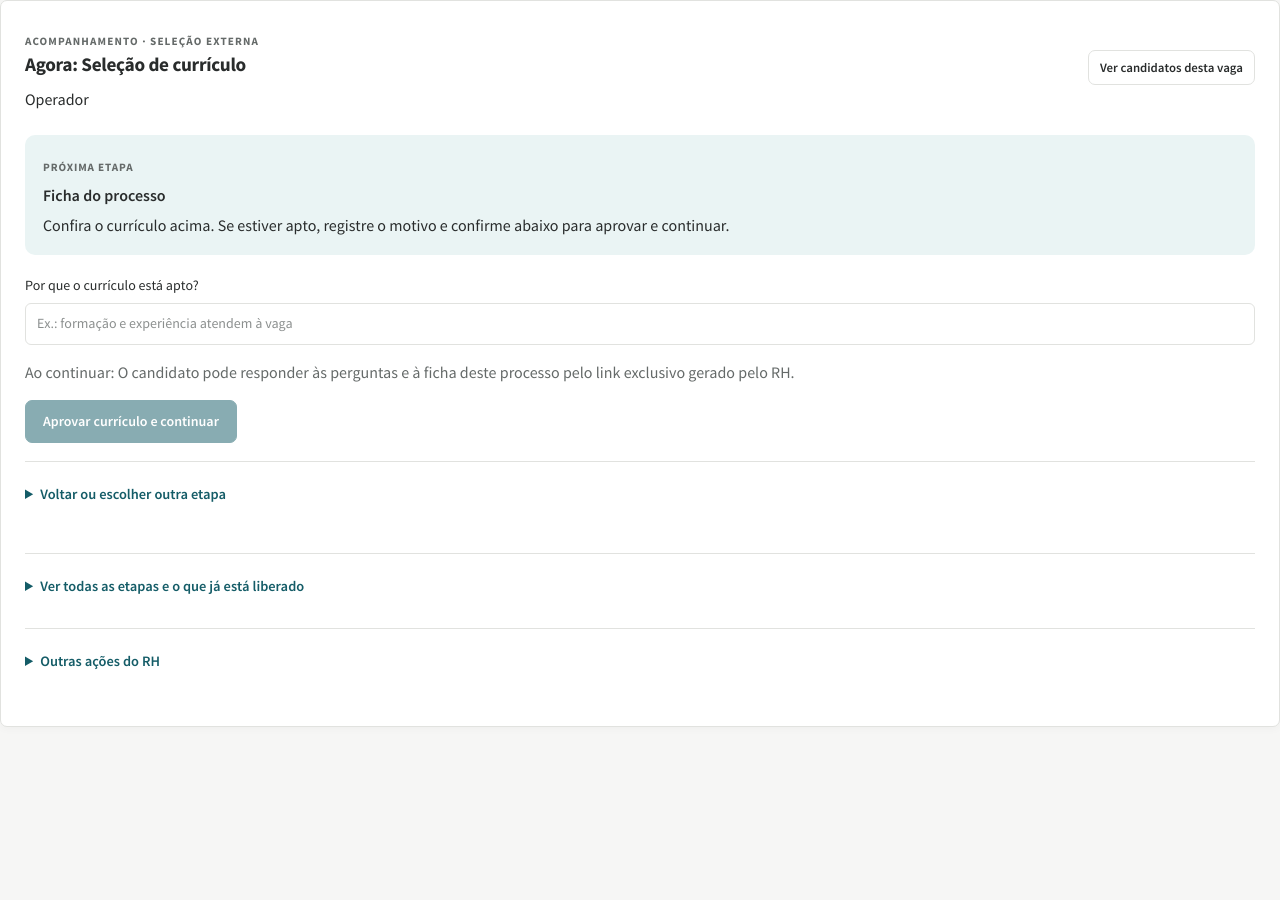
mantém a etapa quando há pendência e mostra a orientação retornada pelo servidor
Step 1. Type "Currículo conferido pelo RH" into the field labelled "Por que o currículo está apto?" → (640, 324), box [25,303,1255,345]
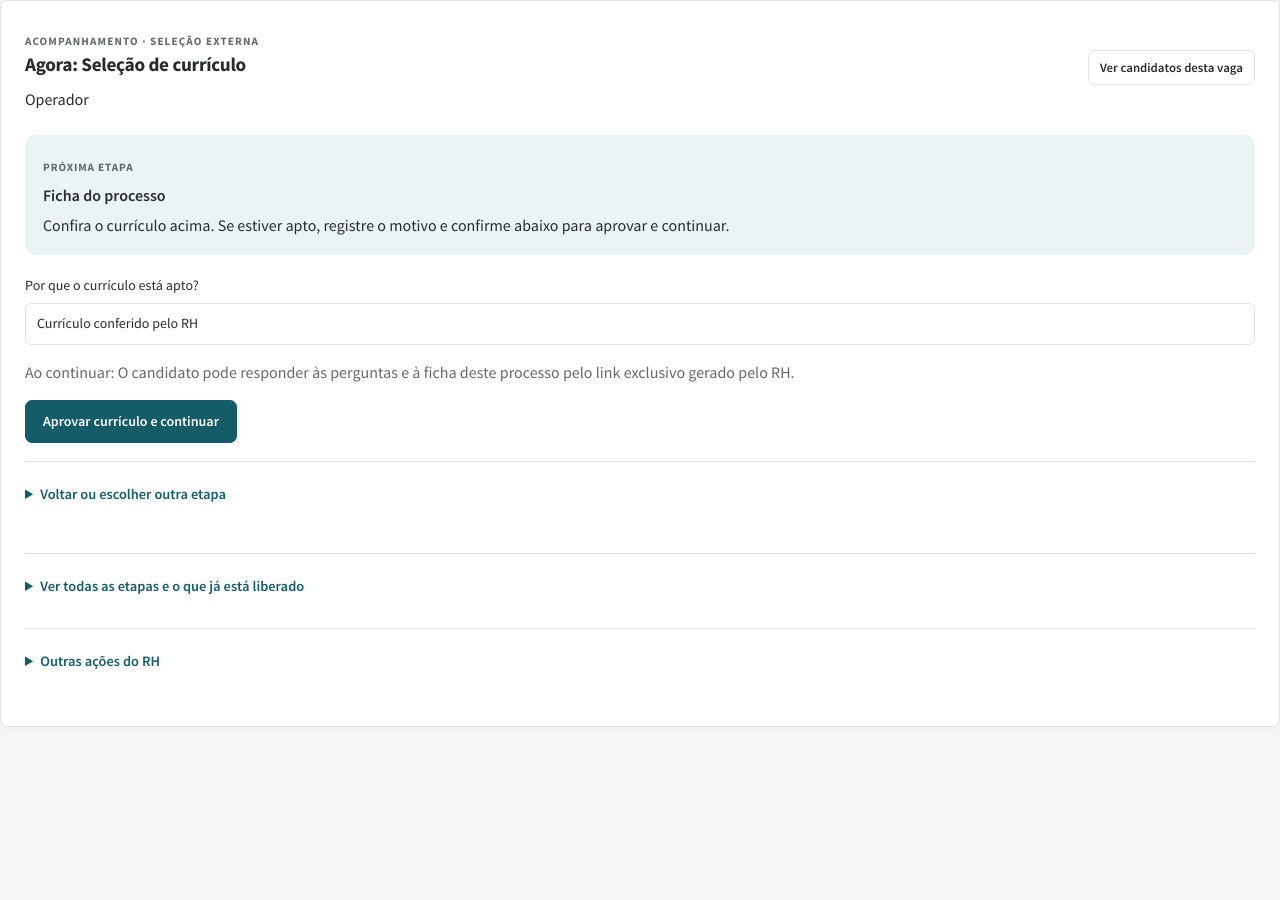
Step 2. Click the button "Aprovar currículo e continuar" → (131, 421), box [25,400,237,443]
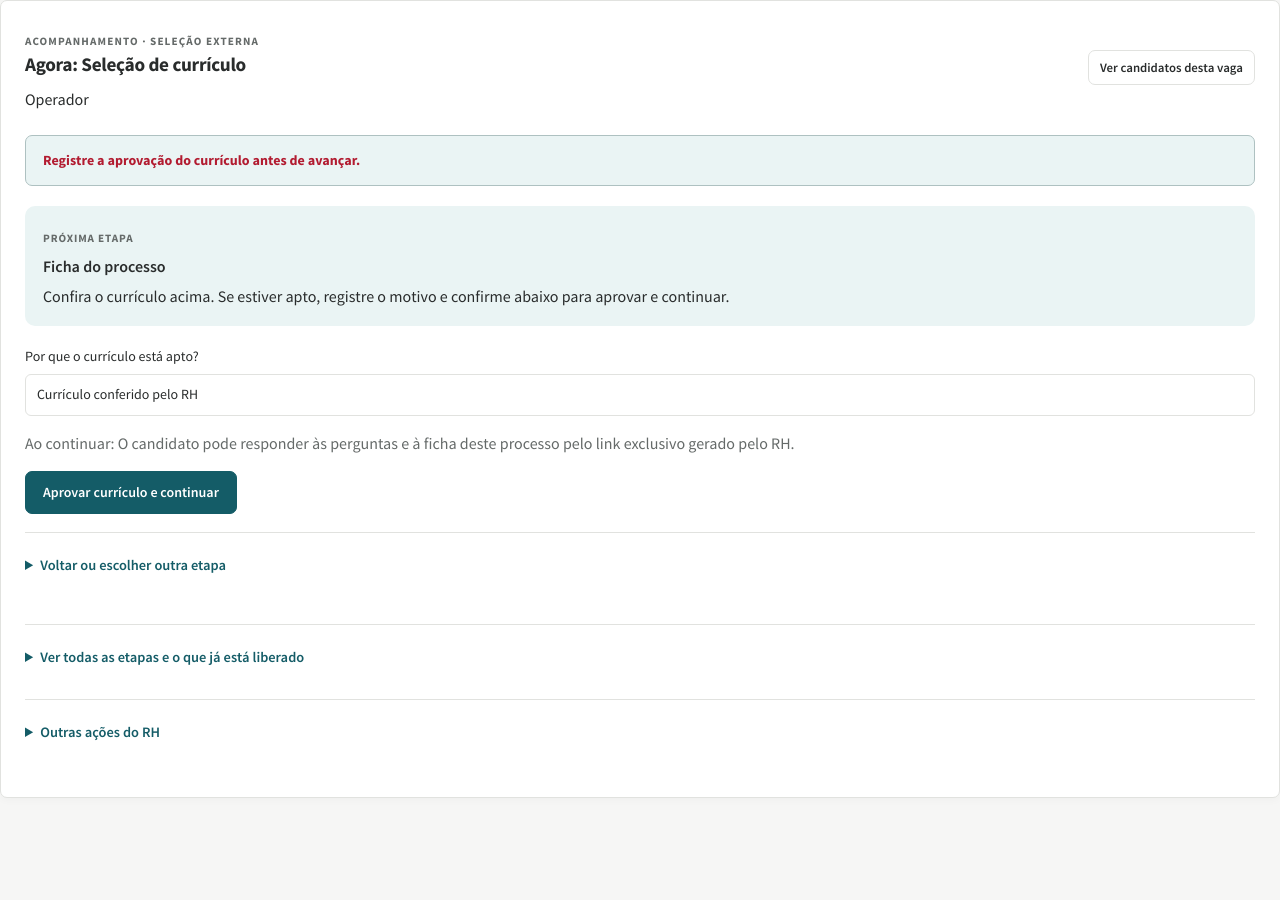
Expected: the message shows "Registre a aprovação do currículo", [43,151,360,169]
